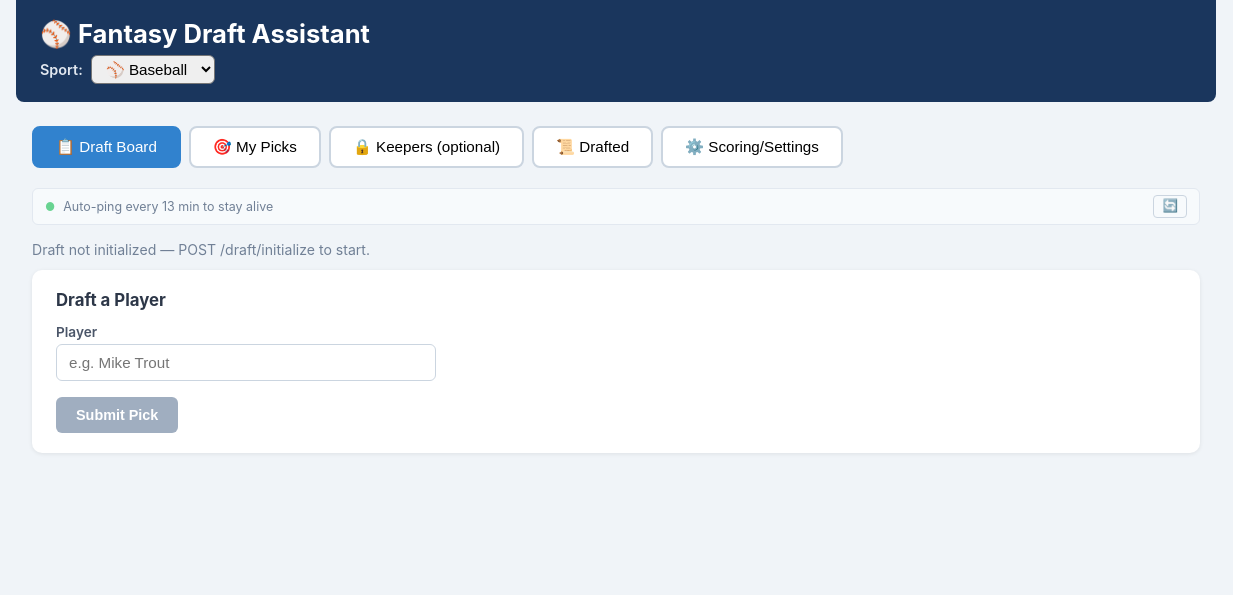
Drafted tab › shows keeper section when keepers exist in draft state
Click the tab "📜 Drafted".
click(593, 147)  # box [532, 126, 653, 168]
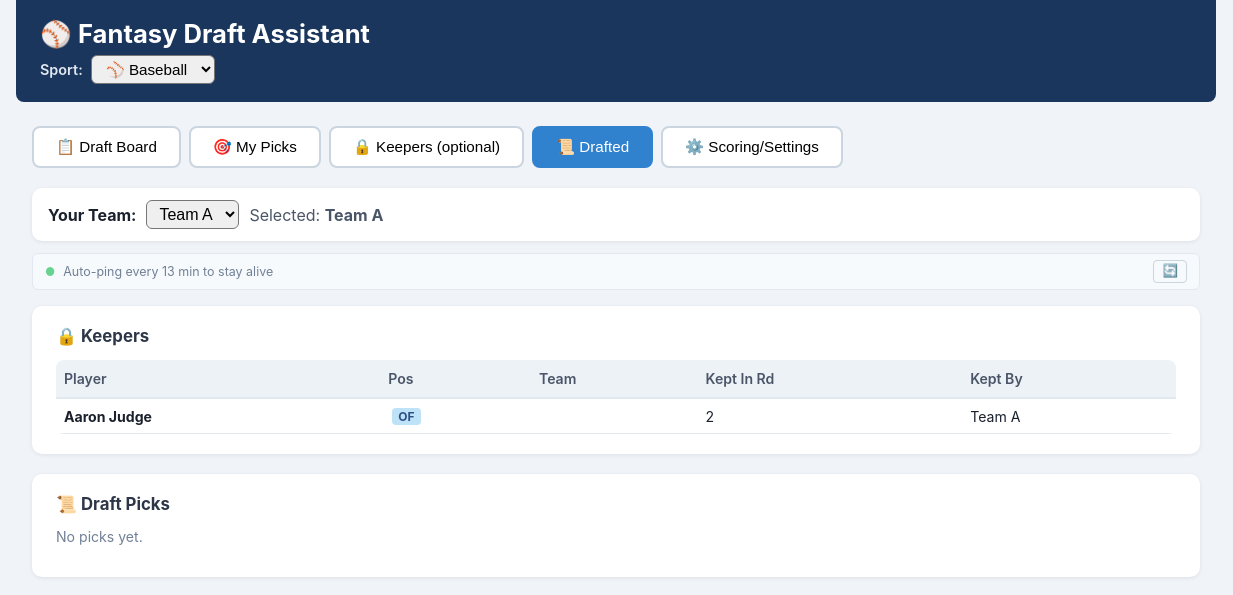
Expected: the text "Aaron Judge" is shown, [64, 408, 152, 425]
Expected: the column heading "Kept In Rd" is shown, [698, 360, 962, 398]
